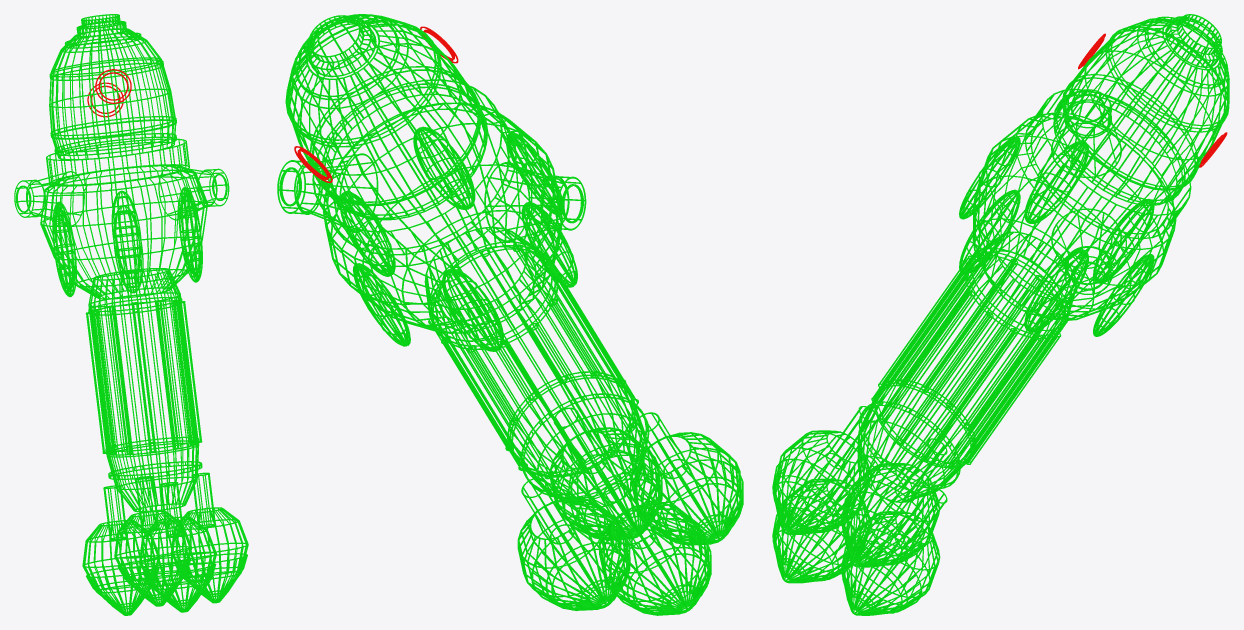
The model's file is mk2-mine-highlight-coolant-connectors.glb.
The picture shows the model from 3 angles, left to right: view 1: azimuth 30°, elevation 25°; view 2: azimuth 150°, elevation 25°; view 3: azimuth 270°, elevation 25°; orthographic projection. The views are drawn at different scales.
Parts seen in each view (by area): view 1: chassis technical wire, drill-assemblies technical wire, slurry-recovery-ports technical wire, coolant-connectors technical wire; view 2: chassis technical wire, drill-assemblies technical wire, slurry-recovery-ports technical wire, coolant-connectors technical wire; view 3: chassis technical wire, drill-assemblies technical wire, slurry-recovery-ports technical wire.
Part boxes in pixels (x1,y1,x2,y2): chassis technical wire: [40, 14, 215, 540]; drill-assemblies technical wire: [82, 507, 248, 615]; slurry-recovery-ports technical wire: [14, 166, 229, 226]; coolant-connectors technical wire: [87, 69, 131, 117]; chassis technical wire: [285, 14, 688, 549]; drill-assemblies technical wire: [517, 427, 743, 615]; slurry-recovery-ports technical wire: [277, 153, 586, 241]; coolant-connectors technical wire: [294, 26, 458, 182]; chassis technical wire: [825, 14, 1229, 550]; drill-assemblies technical wire: [772, 430, 940, 615]; slurry-recovery-ports technical wire: [1051, 89, 1121, 294].
Size of the model in its own units: 1.9 by 4.19 by 2.77.
